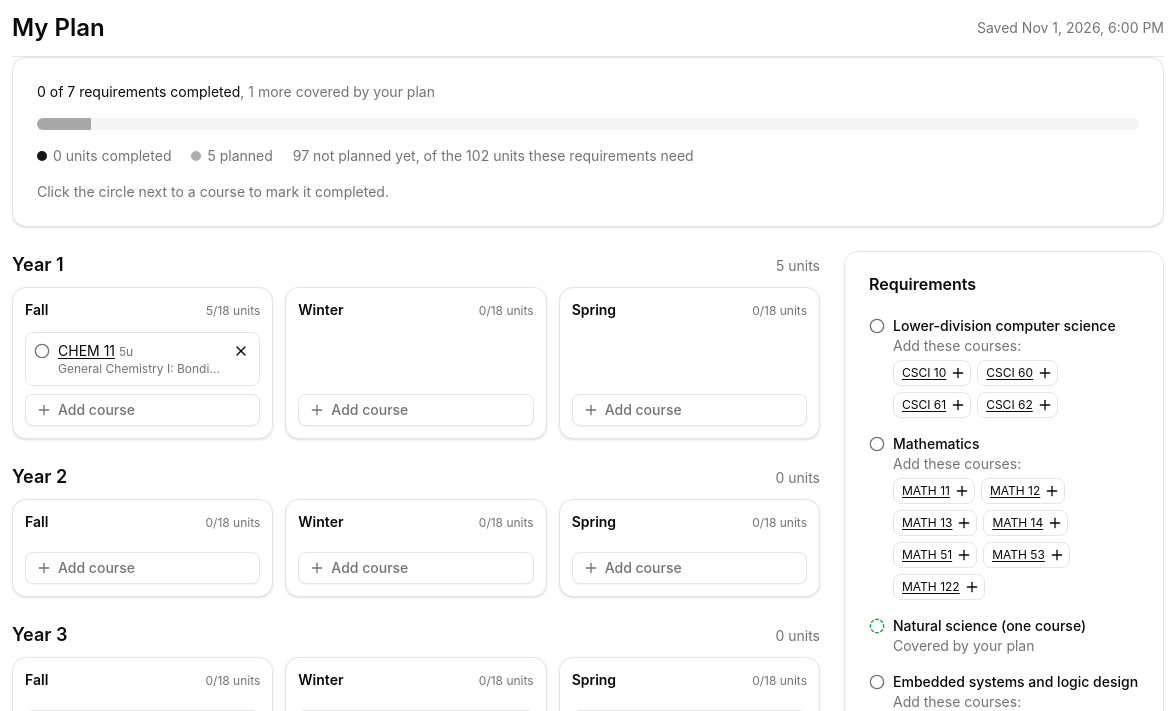
plan page › marks a course completed and counts it in the summary and requirements
Expected: the text "Covered by your plan" is shown, [893, 637, 1034, 654]
Click the button named "CHEM 11 completed" at (42, 351), box [34, 343, 50, 359]
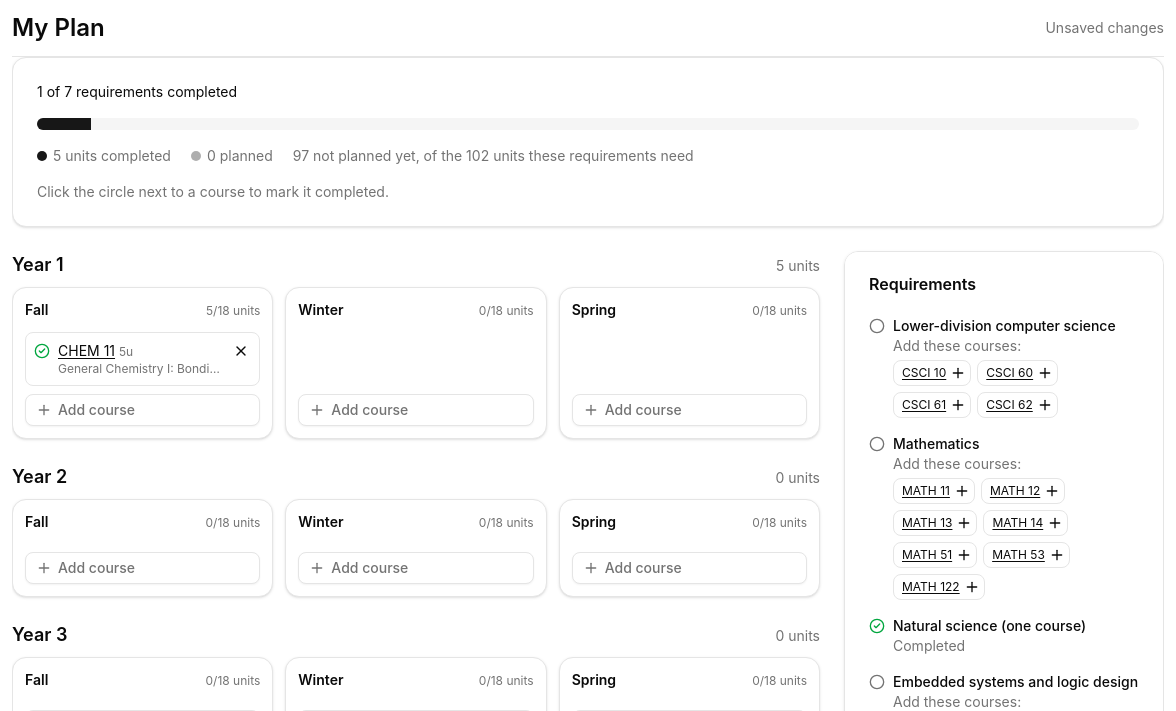
Expected: the text "1 of 7 requirements completed" is shown, [37, 83, 237, 100]
Expected: the text "5 units completed" is shown, [37, 146, 171, 166]
Expected: the text "Completed" is shown, [893, 637, 965, 654]
